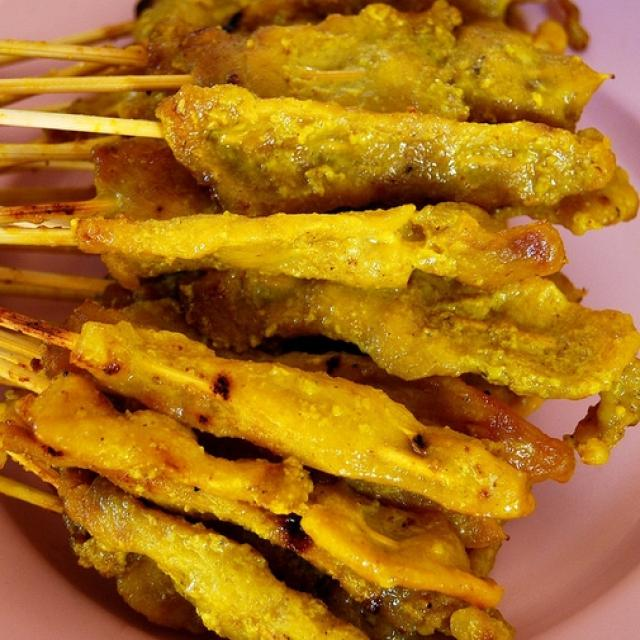牛肉菜式: (15, 24, 606, 620)
